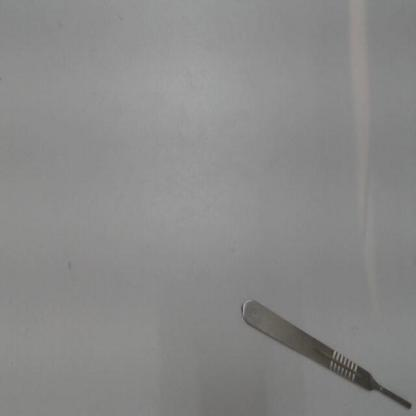No.4 BP Handle: (241, 278, 414, 412)
